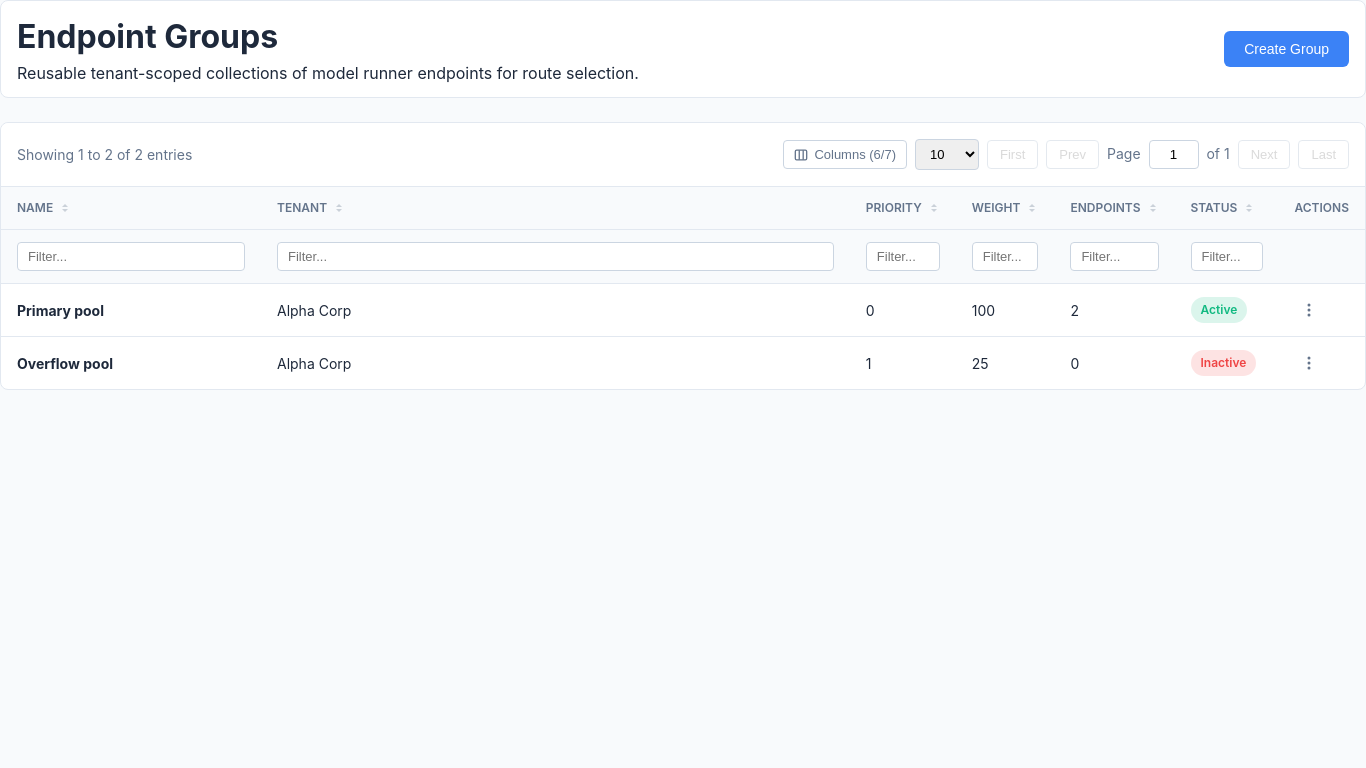
Endpoint Groups view › does not create the group when validation reports blocking errors
Check: the text "Primary pool" is shown, box [17, 302, 104, 318]
Click the button "Create Group" at (1287, 49), box [1224, 31, 1349, 67]
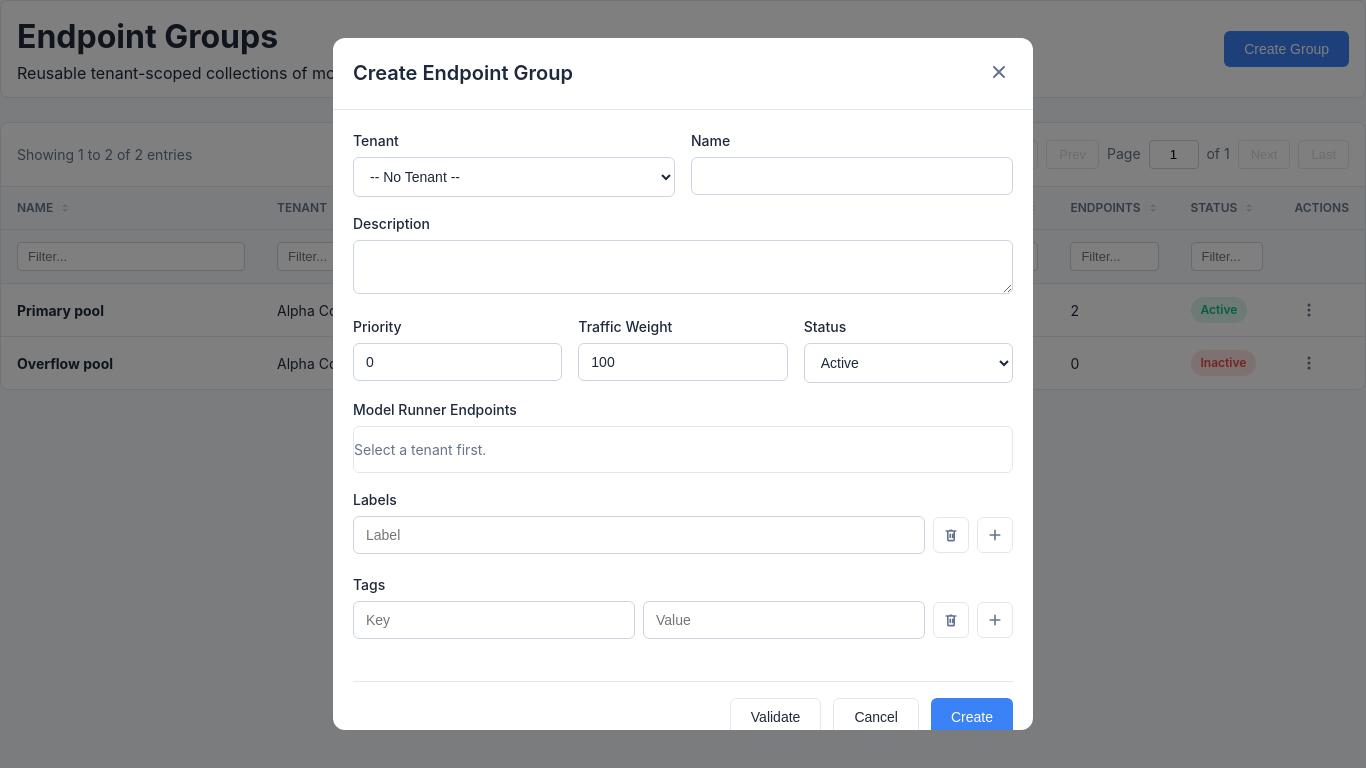
Check: the form is shown, box [353, 130, 1013, 730]
Type "Primary pool" into the field labelled "Name" at (852, 176), box [691, 157, 1013, 195]
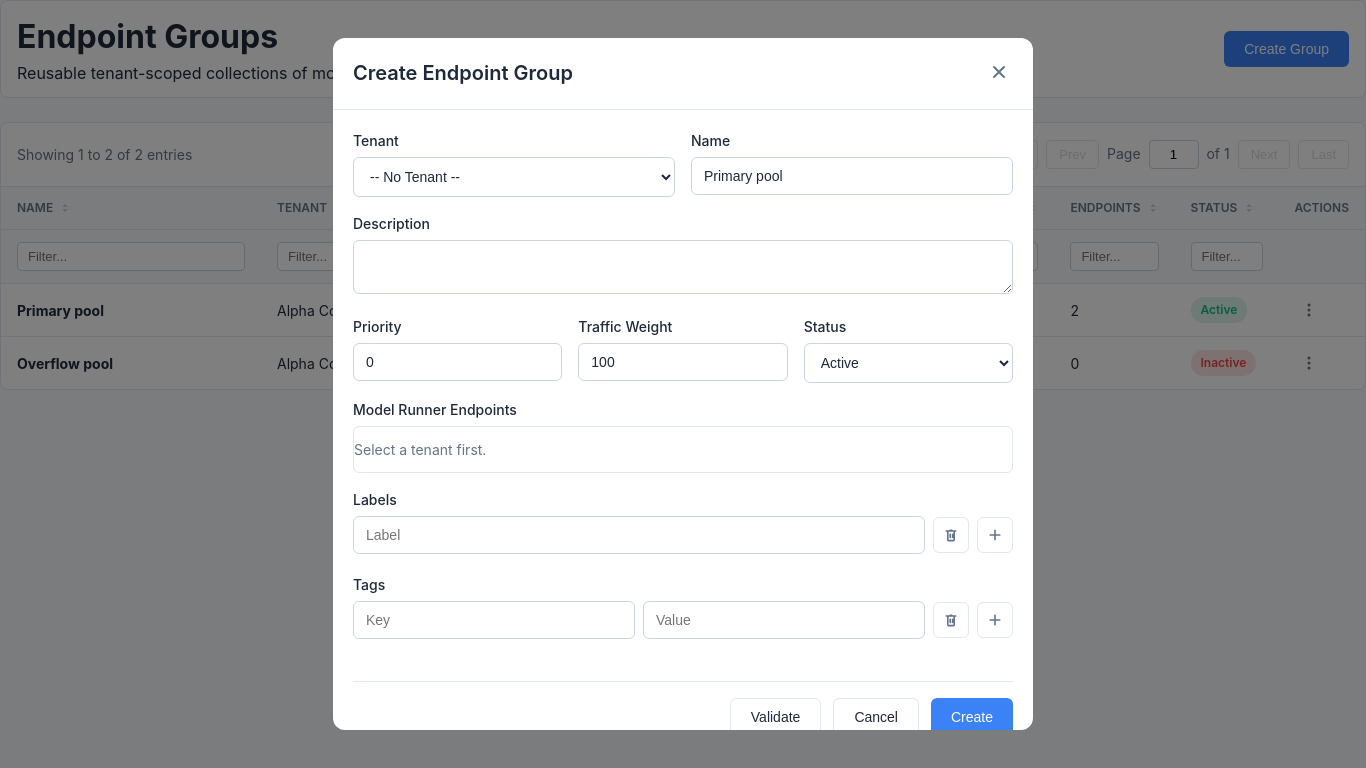
Click the button "Create" at (972, 717), box [931, 698, 1013, 736]
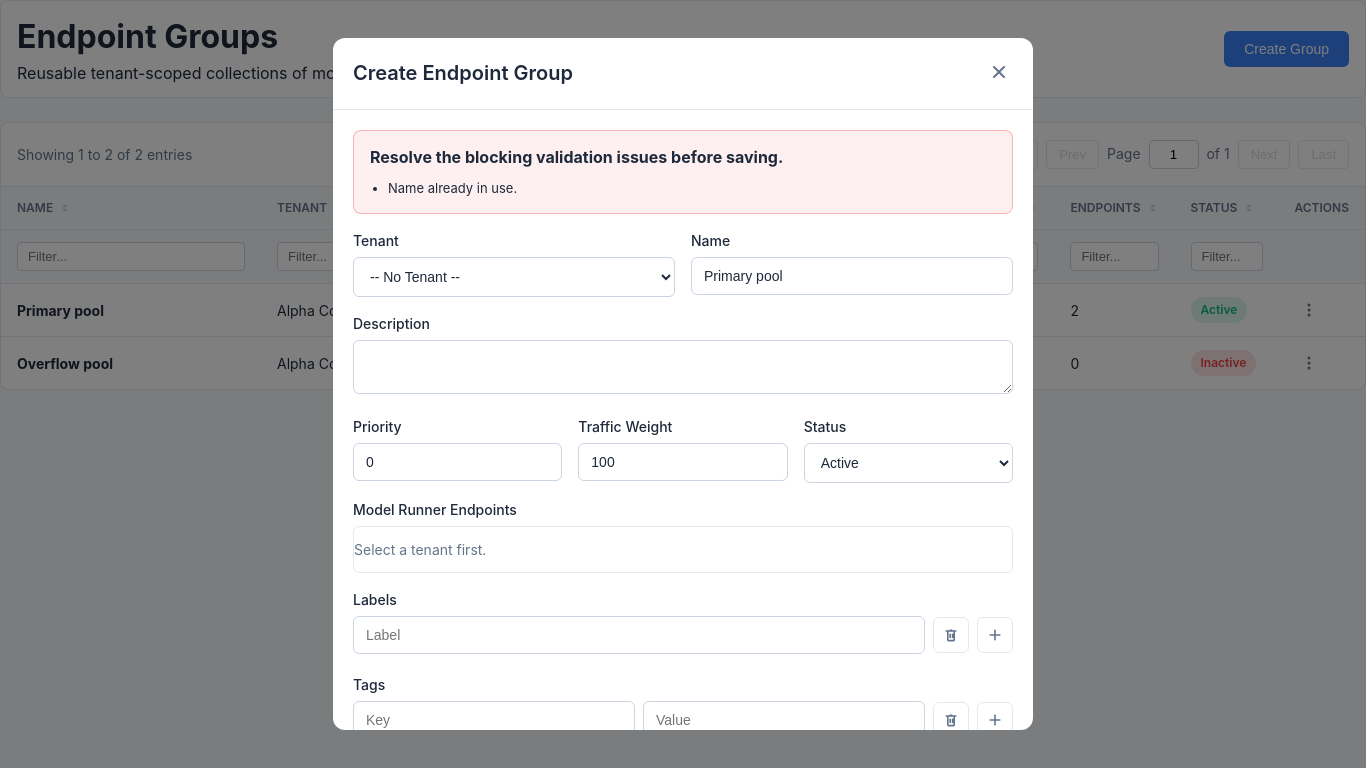
Check: the list item "Name already in use." is shown, box [388, 180, 517, 196]
